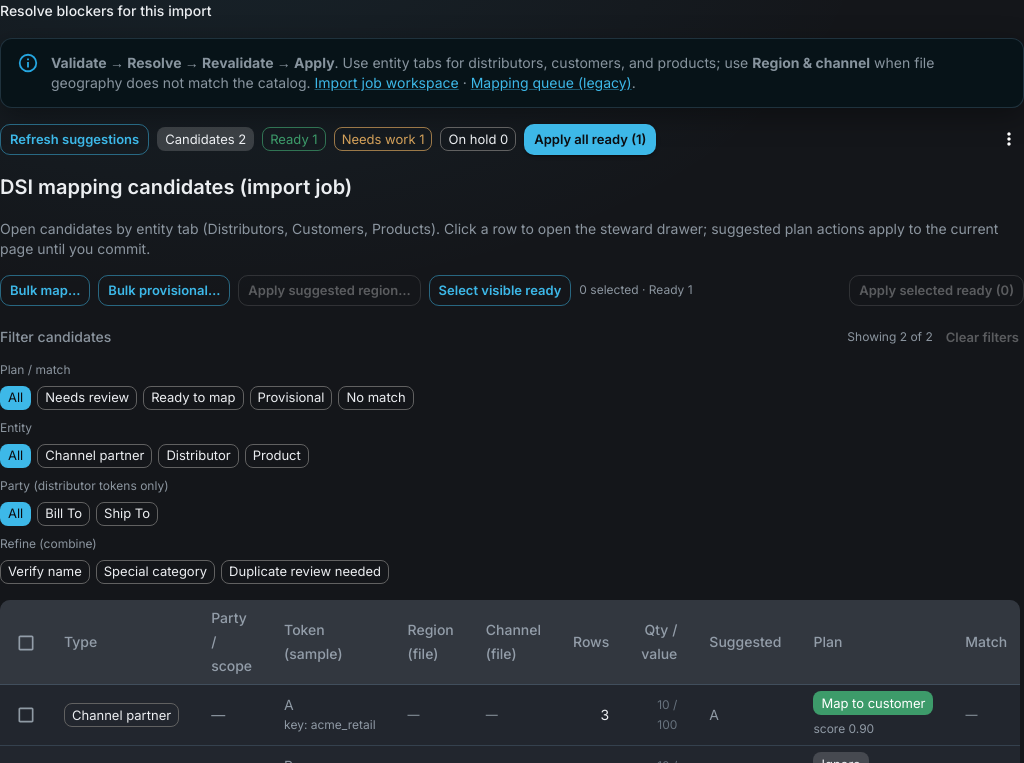
Test: DsiImportJobResolutionSection resolution plan › queue filter chips narrow visible workspace rows
The width and height of the screenshot is (1024, 763).
Expected: the text "Showing 2 of 2" is shown, [847,327,933,347]
Click the button with test id "dsi-filter-queue-ready_to_map".
click(193, 398)  # box [143,386,244,410]
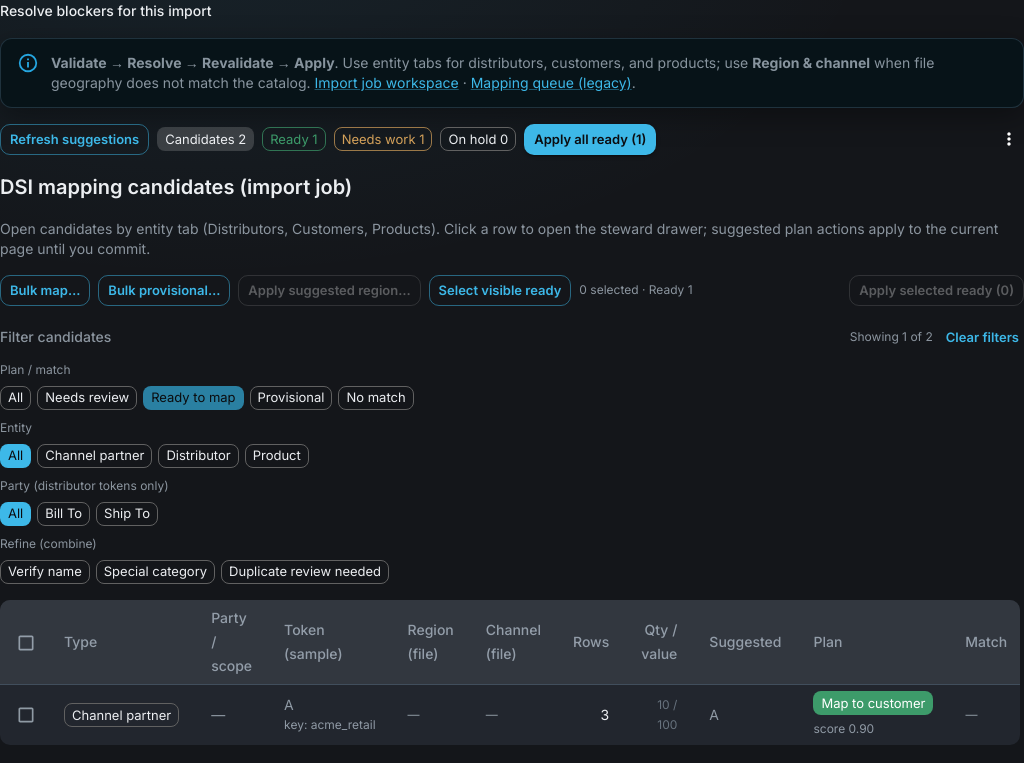
Expected: the 1st text titled "A" is shown, [284,696,294,713]
Expected: the text "Showing 1 of 2" is shown, [850,327,933,347]
